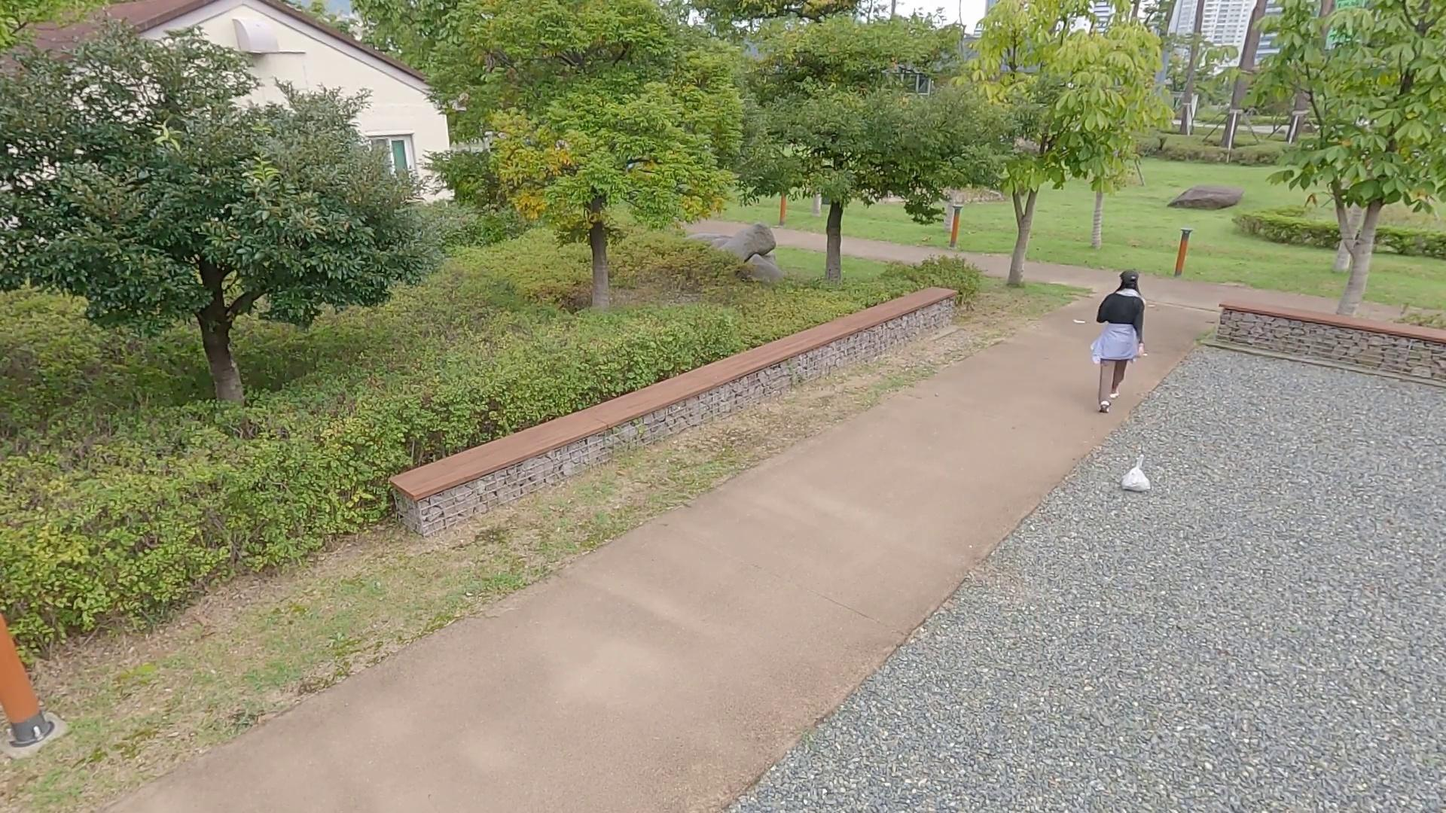person: (1090, 267, 1150, 415)
trash: (1122, 454, 1153, 492)
